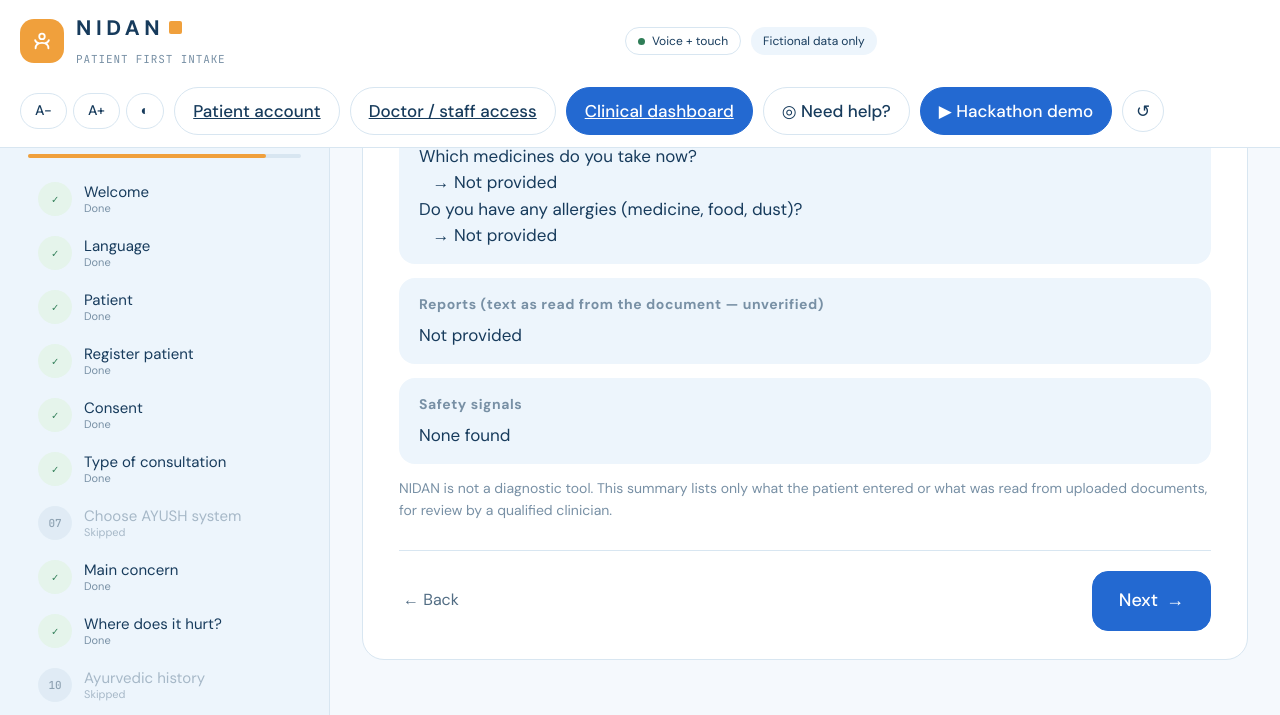
it: staff area: no default PIN, encrypted hand-over, audit › hand-over after setup is encrypted and listed only after unlock
The image size is (1280, 715).
(page scrolled)
Click the button "Next →" at x=1151, y=601, box 1092,571 -> 1211,631
(page scrolled)
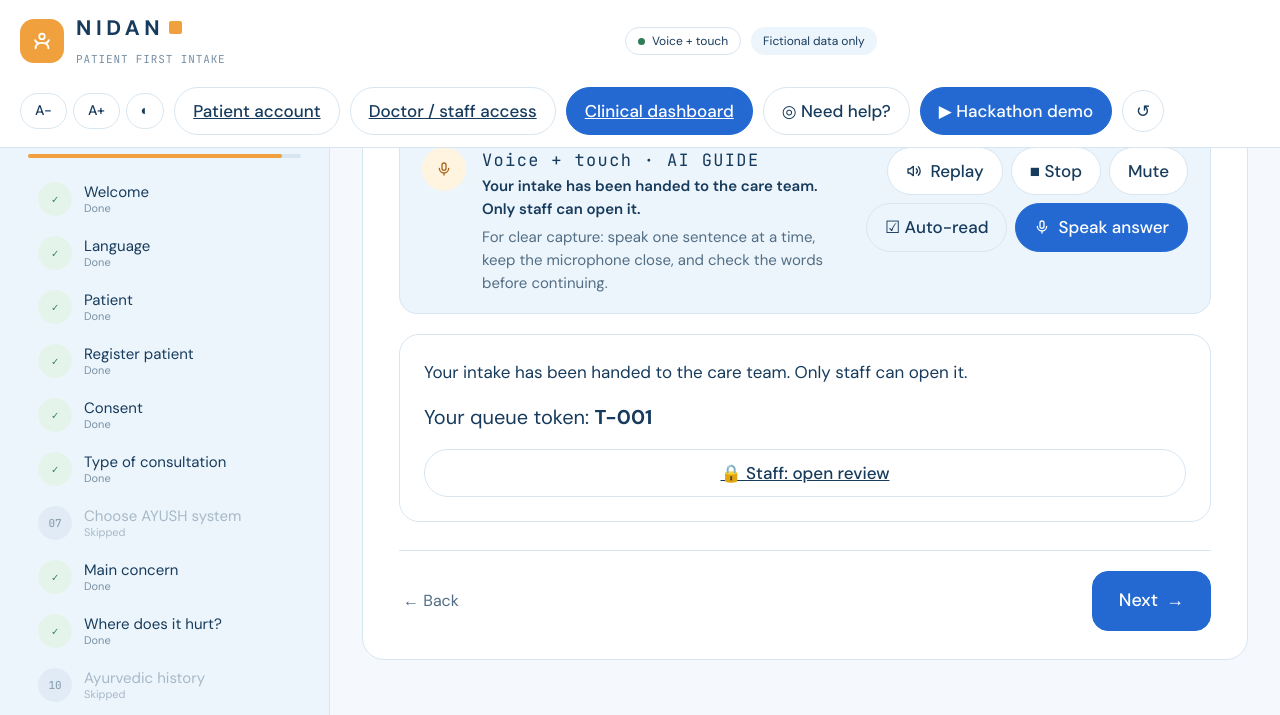
Result: the text "handed to the care team" below "AI GUIDE" is shown at 482,176 -> 818,220
